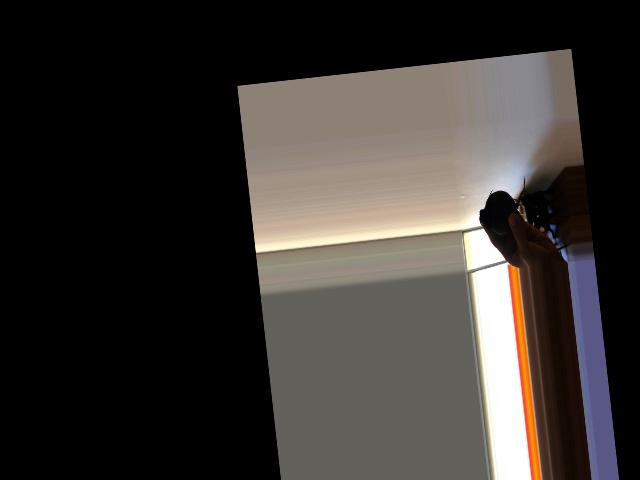beet: (475, 175, 530, 237)
